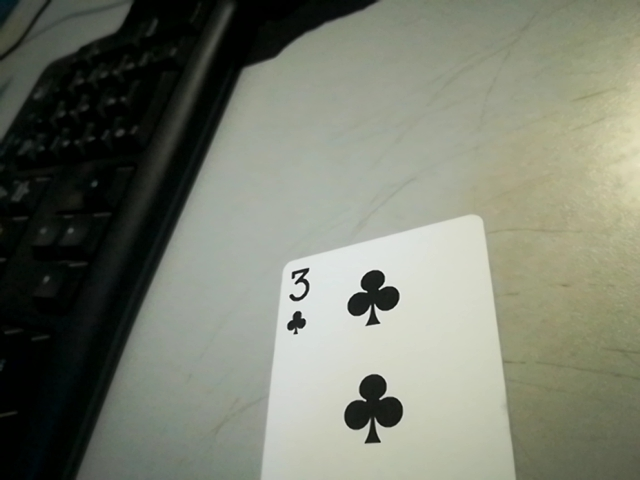mh 3: (270, 260, 322, 337)
